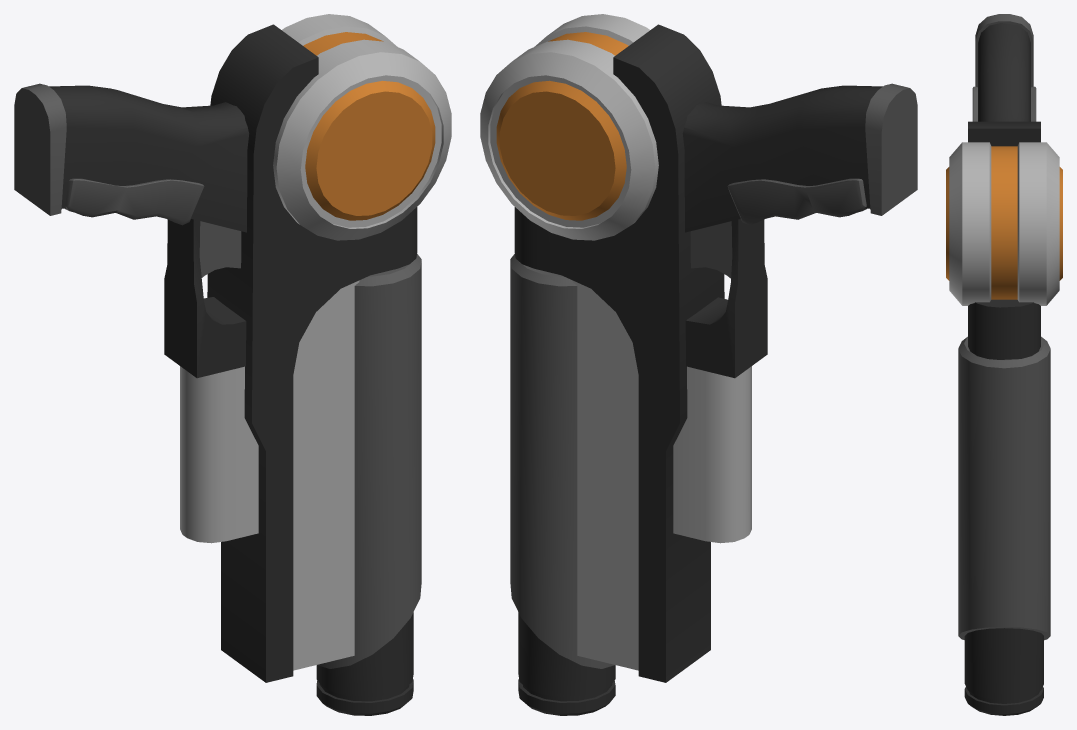
The model's file is qg-pistol-1-lod1.glb.
3 renders of one model, left to right at view 1: azimuth 30°, elevation 25°; view 2: azimuth 150°, elevation 25°; view 3: azimuth 270°, elevation 25°, orthographic. The views are drawn at different scales.
Parts seen in each view (by area): view 1: WeaponMesh_qg-pistol-1_Pistol_1; view 2: WeaponMesh_qg-pistol-1_Pistol_1; view 3: WeaponMesh_qg-pistol-1_Pistol_1.
Part boxes in pixels (left/top/right/bottom): WeaponMesh_qg-pistol-1_Pistol_1: left=14, top=14, right=451, bottom=715; WeaponMesh_qg-pistol-1_Pistol_1: left=480, top=14, right=917, bottom=715; WeaponMesh_qg-pistol-1_Pistol_1: left=946, top=14, right=1062, bottom=715.
Size of the model in its own units: 0.3719 by 0.62 by 0.1182.
